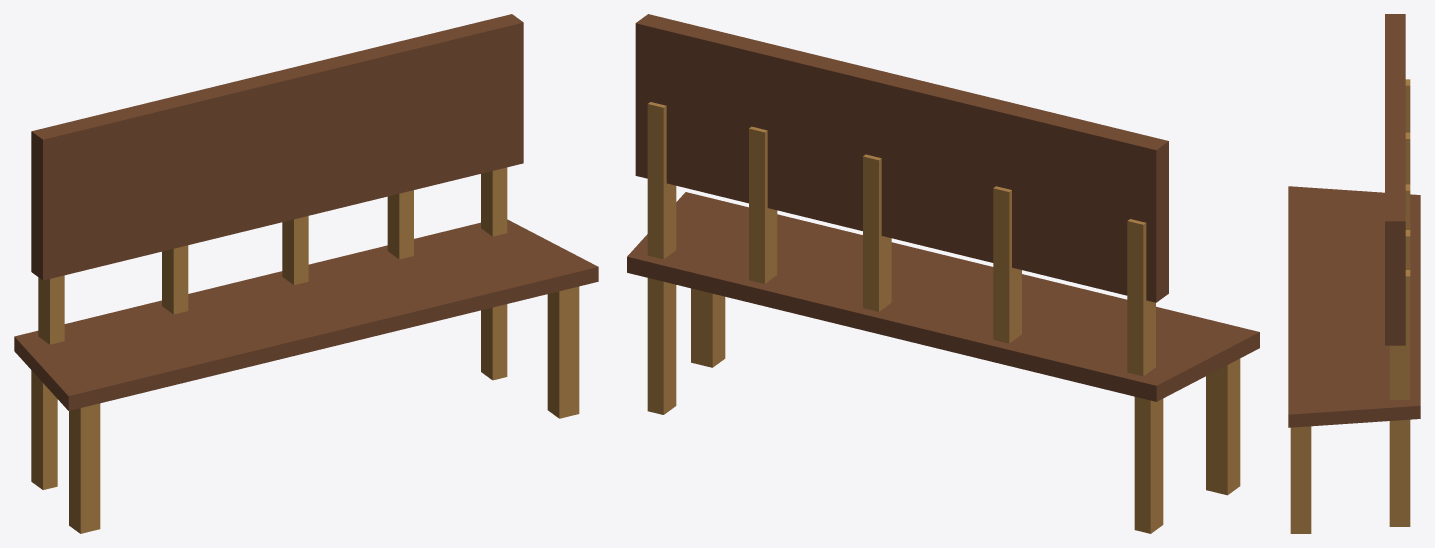
Rendered from Skameika.fbx.
The picture shows the model from 3 angles, left to right: view 1: azimuth 30°, elevation 25°; view 2: azimuth 150°, elevation 25°; view 3: azimuth 270°, elevation 25°; orthographic projection. The views are drawn at different scales.
Parts seen in each view (by area): view 1: polySurface903; view 2: polySurface903; view 3: polySurface903.
Boxes of the visible parts, <box> form: polySurface903: <box>14,14,598,533</box>; polySurface903: <box>627,14,1259,533</box>; polySurface903: <box>1288,14,1420,533</box>.
Size of the model in its own units: 194 by 123 by 47.33.
